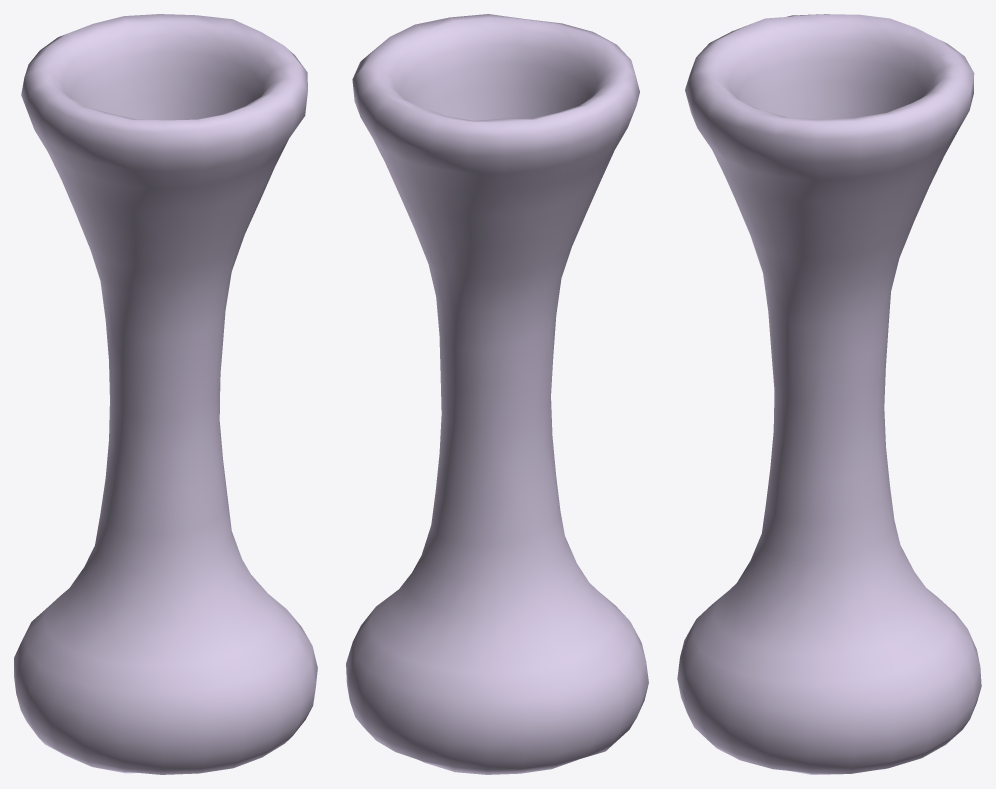
File: VASEPLANT.fbx
3 renders of one model, left to right at view 1: azimuth 30°, elevation 25°; view 2: azimuth 150°, elevation 25°; view 3: azimuth 270°, elevation 25°, orthographic.
Visible parts, largest first — view 1: VASEPLANT; view 2: VASEPLANT; view 3: VASEPLANT.
Boxes of the visible parts, x1,y1,x2,y2 form: VASEPLANT: [14, 14, 317, 774]; VASEPLANT: [346, 14, 648, 774]; VASEPLANT: [677, 14, 981, 774].
Bounding box in the file's own units: 2.51 × 6.01 × 2.52.
